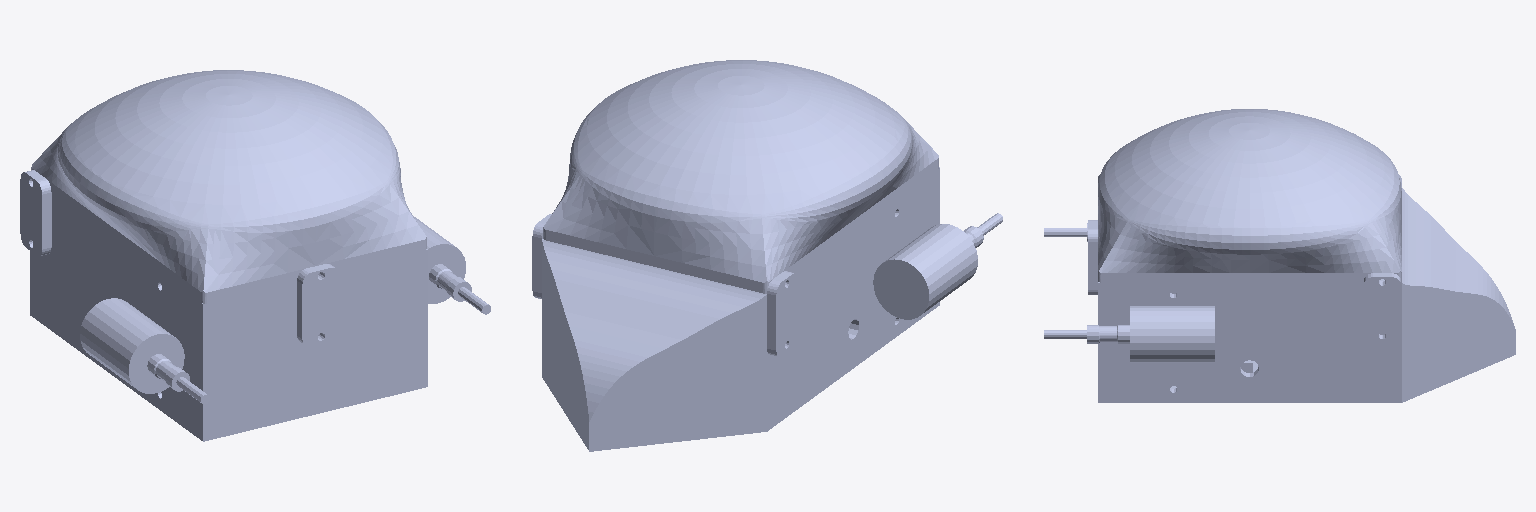
URDF robot description (robot_boat_simple):
<?xml version="1.0" encoding="utf-8"?>
<!-- This URDF was automatically created by SolidWorks to URDF Exporter! Originally created by [author] ([email redacted]) 
     Commit Version: 1.6.0-4-g7f85cfe  Build Version: 1.6.7995.38578
     For more information, please see http://wiki.ros.org/sw_urdf_exporter -->
<robot
  name="robot_boat_simple">
  <link
    name="caja">
    <inertial>
      <origin
        xyz="0.0674088250200049 -0.229107086709065 0.0869499659473606"
        rpy="0 0 0" />
      <mass
        value="0.593575785097037" />
      <inertia
        ixx="0.00164683447052826"
        ixy="-4.98457893042727E-07"
        ixz="-2.88982729740066E-08"
        iyy="0.00124620812191765"
        iyz="4.37928200446627E-06"
        izz="0.0024147515466342" />
    </inertial>
    <visual>
      <origin
        xyz="0 0 0"
        rpy="0 0 0" />
      <geometry>
        <mesh
          filename="package://robot_boat_simple/meshes/caja.STL" />
      </geometry>
      <material
        name="">
        <color
          rgba="0.792156862745098 0.819607843137255 0.933333333333333 1" />
      </material>
    </visual>
    <collision>
      <origin
        xyz="0 0 0"
        rpy="0 0 0" />
      <geometry>
        <mesh
          filename="package://robot_boat_simple/meshes/caja.STL" />
      </geometry>
    </collision>
  </link>
  <link
    name="motor1">
    <inertial>
      <origin
        xyz="0.172573670737875 -0.227745458135946 0.0379154286831428"
        rpy="0 0 0" />
      <mass
        value="0.0338272475621472" />
      <inertia
        ixx="3.59775886940147E-06"
        ixy="1.33747826147588E-21"
        ixz="-1.4152161817721E-21"
        iyy="1.02720341448678E-05"
        iyz="0"
        izz="1.02720341448678E-05" />
    </inertial>
    <visual>
      <origin
        xyz="0 0 0"
        rpy="0 0 0" />
      <geometry>
        <mesh
          filename="package://robot_boat_simple/meshes/motor1.STL" />
      </geometry>
      <material
        name="">
        <color
          rgba="0.796078431372549 0.823529411764706 0.937254901960784 1" />
      </material>
    </visual>
    <collision>
      <origin
        xyz="0 0 0"
        rpy="0 0 0" />
      <geometry>
        <mesh
          filename="package://robot_boat_simple/meshes/motor1.STL" />
      </geometry>
    </collision>
  </link>
  <joint
    name="motor1"
    type="prismatic">
    <origin
      xyz="-0.078491 -0.1107 0.017262"
      rpy="-2.6816 0 -1.5708" />
    <parent
      link="caja" />
    <child
      link="motor1" />
    <axis
      xyz="0 0.44397 0.89604" />
    <limit
      lower="0"
      upper="0"
      effort="0"
      velocity="0" />
  </joint>
  <link
    name="motor2">
    <inertial>
      <origin
        xyz="0.172573670735101 0.0900437999823295 0.0386318147464088"
        rpy="0 0 0" />
      <mass
        value="0.0338272475621472" />
      <inertia
        ixx="3.59775886940148E-06"
        ixy="8.9047476417326E-22"
        ixz="1.46990538215685E-21"
        iyy="1.02720341448678E-05"
        iyz="-1.6940658945086E-21"
        izz="1.02720341448678E-05" />
    </inertial>
    <visual>
      <origin
        xyz="0 0 0"
        rpy="0 0 0" />
      <geometry>
        <mesh
          filename="package://robot_boat_simple/meshes/motor2.STL" />
      </geometry>
      <material
        name="">
        <color
          rgba="0.796078431372549 0.823529411764706 0.937254901960784 1" />
      </material>
    </visual>
    <collision>
      <origin
        xyz="0 0 0"
        rpy="0 0 0" />
      <geometry>
        <mesh
          filename="package://robot_boat_simple/meshes/motor2.STL" />
      </geometry>
    </collision>
  </link>
  <joint
    name="motor2"
    type="prismatic">
    <origin
      xyz="0.071509 -0.1107 0.015797"
      rpy="2.105 0 -1.5708" />
    <parent
      link="caja" />
    <child
      link="motor2" />
    <axis
      xyz="0 0.86066 -0.50917" />
    <limit
      lower="0"
      upper="0"
      effort="0"
      velocity="0" />
  </joint>
</robot>

--- What the picture shows (computed from the rendered views, not written in the file) ---
The picture shows the robot from 3 angles, left to right: view 1: azimuth 30°, elevation 25°; view 2: azimuth 150°, elevation 25°; view 3: azimuth 270°, elevation 25°; orthographic projection.
Robot: robot_boat_simple — 3 links, 2 joints (2 prismatic); root link caja; default pose: all joints at 0.
Links seen in each view (by area): view 1: caja, motor2, motor1; view 2: caja, motor2; view 3: caja, motor1.
Link boxes in pixels (bbox=[...]): caja: bbox=[20, 70, 427, 441]; motor2: bbox=[80, 298, 209, 404]; motor1: bbox=[413, 216, 490, 314]; caja: bbox=[532, 60, 939, 451]; motor2: bbox=[873, 213, 1002, 319]; caja: bbox=[1088, 109, 1515, 402]; motor1: bbox=[1044, 306, 1214, 362].
Bounding box of the posed robot: 0.1799 × 0.248 × 0.1305 m (x, y, z).
3 mesh visuals loaded from 3 distinct referenced files (3 binary STL).
